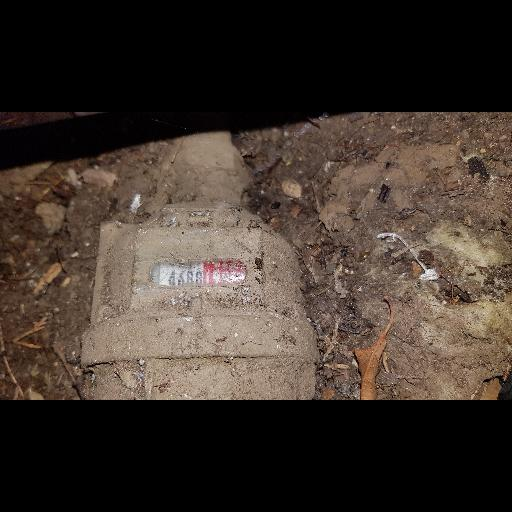1: (203, 262, 211, 287)
4: (166, 262, 177, 289)
6: (177, 262, 187, 289)
8: (194, 261, 204, 288), (186, 261, 195, 287)
9: (211, 261, 221, 287)
border_water_meter_number: (147, 259, 250, 290)
